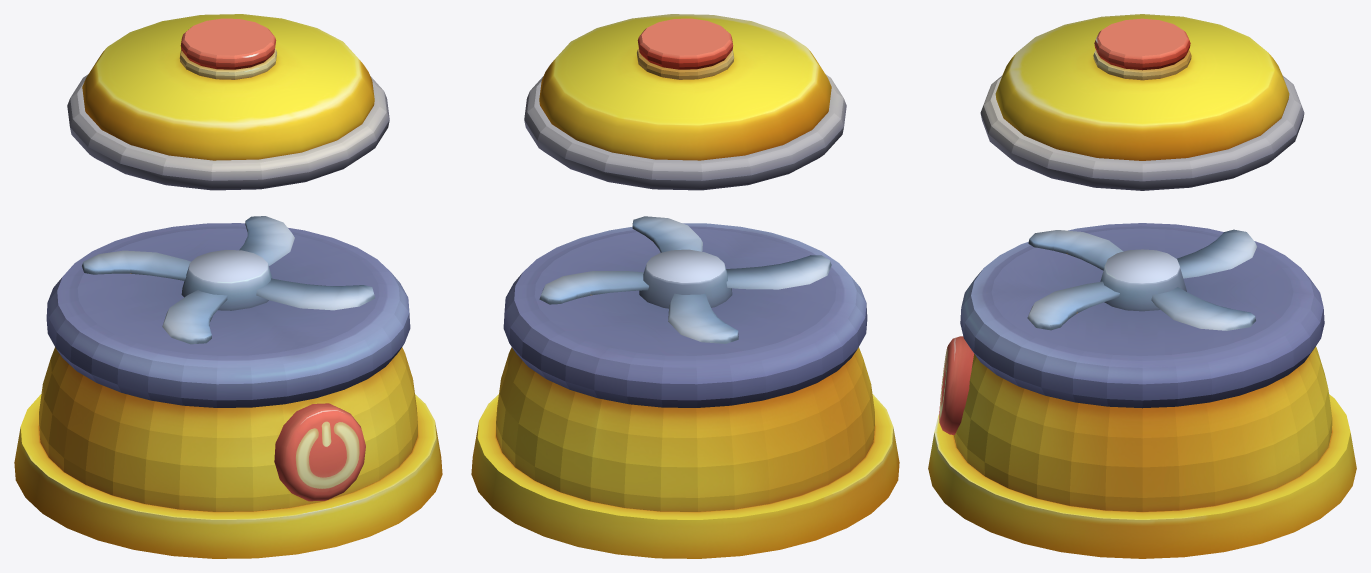
Rendered from 新糖果工厂-生产线-工作台-榨汁机.FBX.
The picture shows the model from 3 angles, left to right: view 1: azimuth 30°, elevation 25°; view 2: azimuth 150°, elevation 25°; view 3: azimuth 270°, elevation 25°; orthographic projection.
Parts seen in each view (by area): view 1: 新糖果工厂-生产线-工作台-榨汁机; view 2: 新糖果工厂-生产线-工作台-榨汁机; view 3: 新糖果工厂-生产线-工作台-榨汁机.
Part boxes in pixels (left/top/right/bottom): 新糖果工厂-生产线-工作台-榨汁机: left=14, top=14, right=442, bottom=558; 新糖果工厂-生产线-工作台-榨汁机: left=471, top=14, right=899, bottom=558; 新糖果工厂-生产线-工作台-榨汁机: left=928, top=14, right=1356, bottom=558.
Bounding box in the file's own units: 41.67 × 46.22 × 41.67.
Materials: 1 (1 with a texture image).
